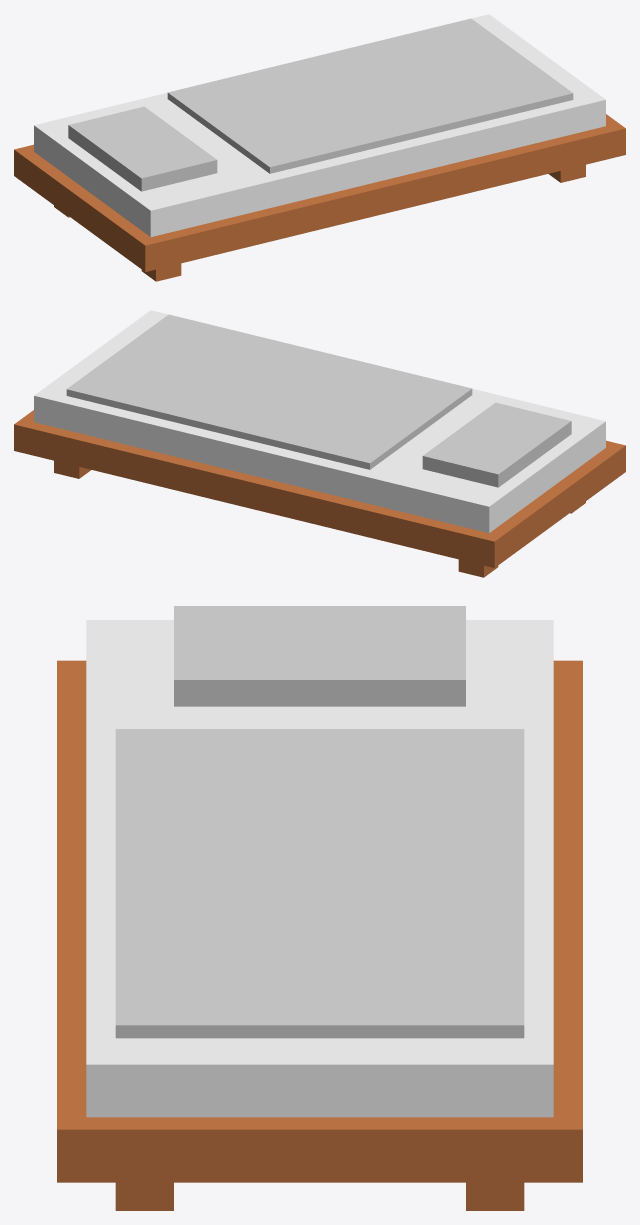
Rendered from bed_1.BkR14CM_.glb.
The picture shows the model from 3 angles, top to bottom: view 1: azimuth 30°, elevation 25°; view 2: azimuth 150°, elevation 25°; view 3: azimuth 270°, elevation 25°; orthographic projection. The views are drawn at different scales.
Visible parts, largest first — view 1: duvet, inner, outer, pillow, foot_top_left, foot_bottom_left; view 2: duvet, inner, outer, pillow, foot_top_right, foot_bottom_right; view 3: duvet, inner, outer, pillow, foot_bottom_left, foot_bottom_right.
Boxes of the visible parts, x1,y1,x2,y2 form: duvet: (167, 18, 573, 173); inner: (34, 14, 605, 236); outer: (14, 114, 625, 271); pillow: (68, 106, 217, 191); foot_top_left: (141, 263, 181, 281); foot_bottom_left: (548, 164, 585, 182); duvet: (66, 314, 472, 469); inner: (34, 310, 605, 532); outer: (14, 410, 625, 567); pillow: (422, 402, 571, 487); foot_top_right: (458, 559, 498, 577); foot_bottom_right: (54, 460, 91, 478); duvet: (115, 729, 524, 1038); inner: (86, 620, 553, 1117); outer: (57, 660, 582, 1182); pillow: (174, 606, 465, 706); foot_bottom_left: (115, 1182, 173, 1210); foot_bottom_right: (466, 1182, 524, 1210).
Bounding box in the file's own units: 1.9 × 0.35 × 0.9.
